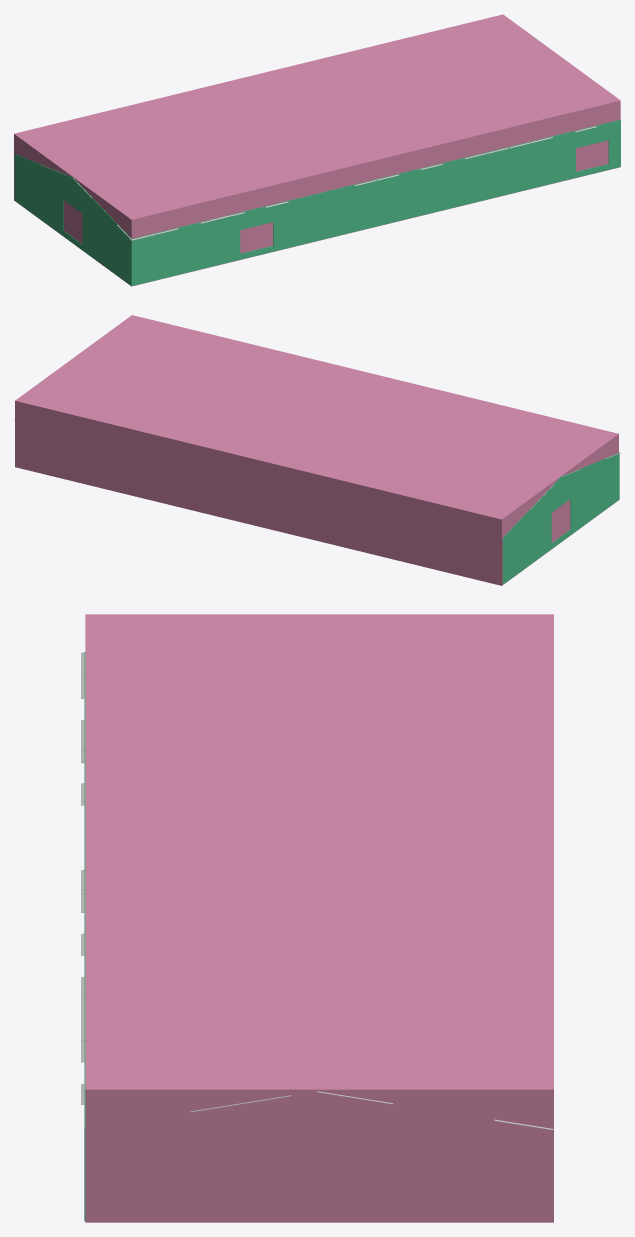
File: ind_bld_tin_01_warehouse_huge.dae
3 views of the same model, one above another, from view 1: azimuth 30°, elevation 25°; view 2: azimuth 150°, elevation 25°; view 3: azimuth 270°, elevation 25° (orthographic). The views are drawn at different scales.
Parts seen in each view (by area): view 1: Untitled, Colmesh-1, ind_bld_a1000; view 2: Untitled, Colmesh-1; view 3: Untitled, ind_bld_a1000, Colmesh-1.
Part boxes in pixels (left/top/right/bottom): Untitled: left=14, top=14, right=620, bottom=286; Colmesh-1: left=14, top=119, right=620, bottom=286; ind_bld_a1000: left=41, top=126, right=596, bottom=240; Untitled: left=15, top=315, right=618, bottom=585; Colmesh-1: left=502, top=452, right=619, bottom=584; Untitled: left=85, top=614, right=553, bottom=1222; ind_bld_a1000: left=81, top=652, right=553, bottom=1130; Colmesh-1: left=84, top=652, right=85, bottom=1221.
Bounding box in the file's own units: 89.25 × 37.37 × 11.59.
